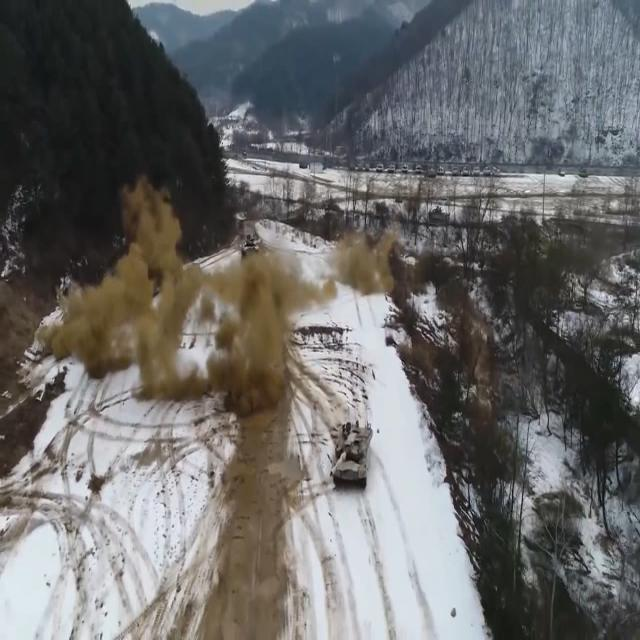korea tank: (330, 412, 375, 493)
